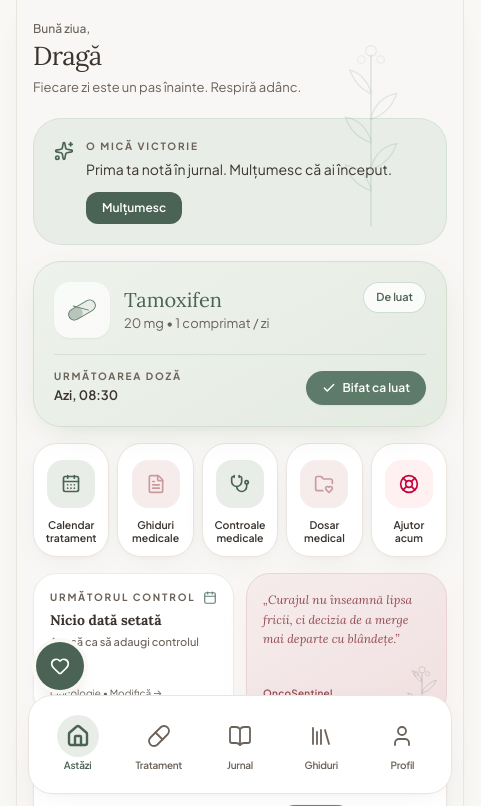
it: O mică victorie › apare pe Astăzi după prima notă și dispare la „Mulțumesc”
The image size is (481, 806).
expect the text "Prima ta notă în jurnal. Mulțumesc că ai început." is shown: met, box [86, 158, 426, 180]
Click the button "Mulțumesc" at (134, 208), box [86, 192, 182, 224]
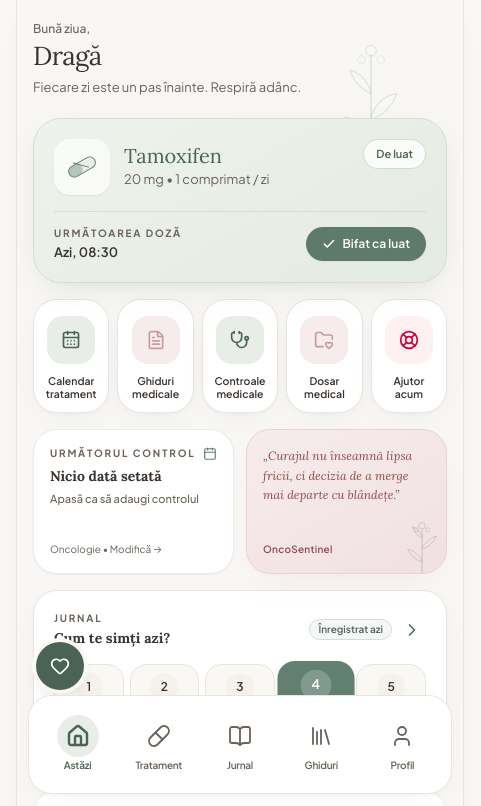
expect the heading labelled "O mică victorie" is gone: met
